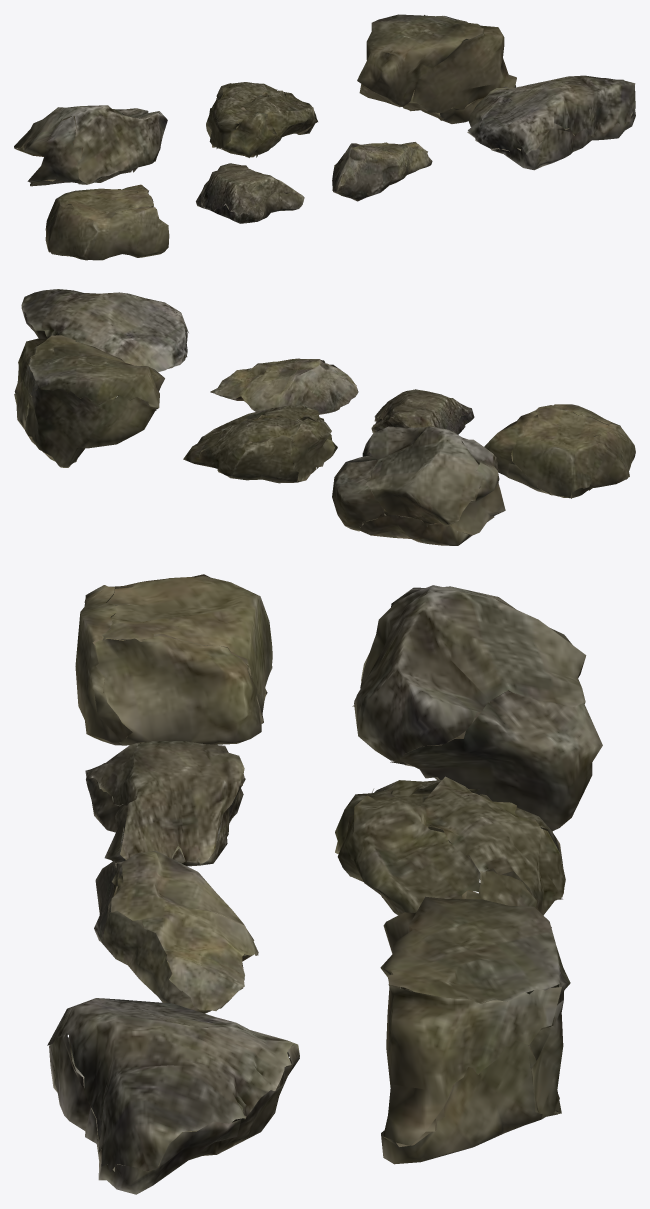
Rendered from rocks2_lo.glb.
The picture shows the model from 3 angles, top to bottom: view 1: azimuth 30°, elevation 25°; view 2: azimuth 150°, elevation 25°; view 3: azimuth 270°, elevation 25°; orthographic projection. The views are drawn at different scales.
Parts seen in each view (by area): view 1: rock_moss_set_02_rock13, rock_moss_set_02_rock10, rock_moss_set_02_rock11, rock_moss_set_02_rock07, rock_moss_set_02_rock12, rock_moss_set_02_rock08, rock_moss_set_02_rock09; view 2: rock_moss_set_02_rock11, rock_moss_set_02_rock13, rock_moss_set_02_rock07, rock_moss_set_02_rock10, rock_moss_set_02_rock12, rock_moss_set_02_rock09, rock_moss_set_02_rock08; view 3: rock_moss_set_02_rock13, rock_moss_set_02_rock11, rock_moss_set_02_rock10, rock_moss_set_02_rock07, rock_moss_set_02_rock12, rock_moss_set_02_rock09, rock_moss_set_02_rock08.
Boxes of the visible parts, x1,y1,x2,y2 form: rock_moss_set_02_rock13: [357, 14, 516, 123]; rock_moss_set_02_rock10: [467, 75, 635, 170]; rock_moss_set_02_rock11: [14, 105, 167, 186]; rock_moss_set_02_rock07: [45, 184, 169, 260]; rock_moss_set_02_rock12: [206, 82, 317, 157]; rock_moss_set_02_rock08: [196, 163, 304, 223]; rock_moss_set_02_rock09: [332, 142, 432, 201]; rock_moss_set_02_rock11: [332, 426, 505, 545]; rock_moss_set_02_rock13: [14, 335, 164, 467]; rock_moss_set_02_rock07: [484, 404, 635, 498]; rock_moss_set_02_rock10: [21, 289, 188, 372]; rock_moss_set_02_rock12: [183, 405, 337, 483]; rock_moss_set_02_rock09: [210, 358, 358, 414]; rock_moss_set_02_rock08: [371, 389, 474, 434]; rock_moss_set_02_rock13: [380, 896, 570, 1164]; rock_moss_set_02_rock11: [352, 585, 602, 831]; rock_moss_set_02_rock10: [47, 998, 299, 1194]; rock_moss_set_02_rock07: [75, 574, 272, 745]; rock_moss_set_02_rock12: [335, 776, 565, 927]; rock_moss_set_02_rock09: [94, 850, 258, 1013]; rock_moss_set_02_rock08: [85, 741, 245, 866].
Bounding box in the file's own units: 8.28 × 1.35 × 3.42.
1 material, 1 textured.
